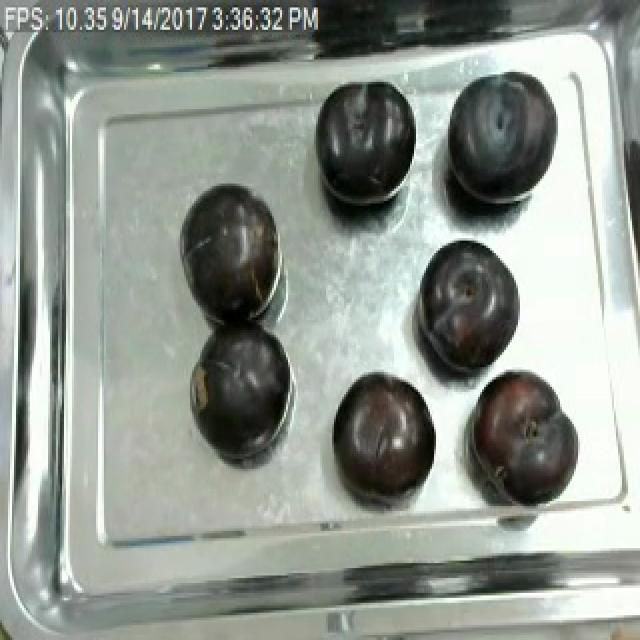Fruit: (436, 59, 564, 220), (464, 359, 586, 514), (306, 74, 424, 218), (416, 231, 528, 382), (328, 367, 442, 504), (180, 181, 282, 323), (192, 317, 292, 459)
